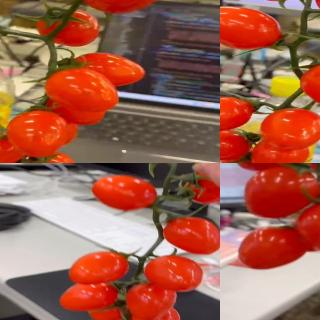tomato: (244, 163, 320, 217), (6, 109, 77, 160), (44, 65, 121, 111), (239, 226, 312, 271), (66, 52, 148, 89), (36, 9, 102, 49), (220, 4, 280, 48), (91, 174, 158, 212), (259, 106, 320, 147), (162, 215, 220, 255), (143, 253, 203, 291), (44, 92, 108, 126), (68, 250, 130, 284), (58, 281, 120, 313), (127, 281, 177, 320), (179, 168, 220, 204), (251, 138, 310, 163), (293, 199, 320, 253), (220, 95, 254, 133), (80, 0, 166, 14), (299, 61, 320, 111), (220, 130, 251, 162), (0, 130, 27, 163), (220, 148, 272, 163), (130, 306, 181, 320), (21, 152, 77, 163)
